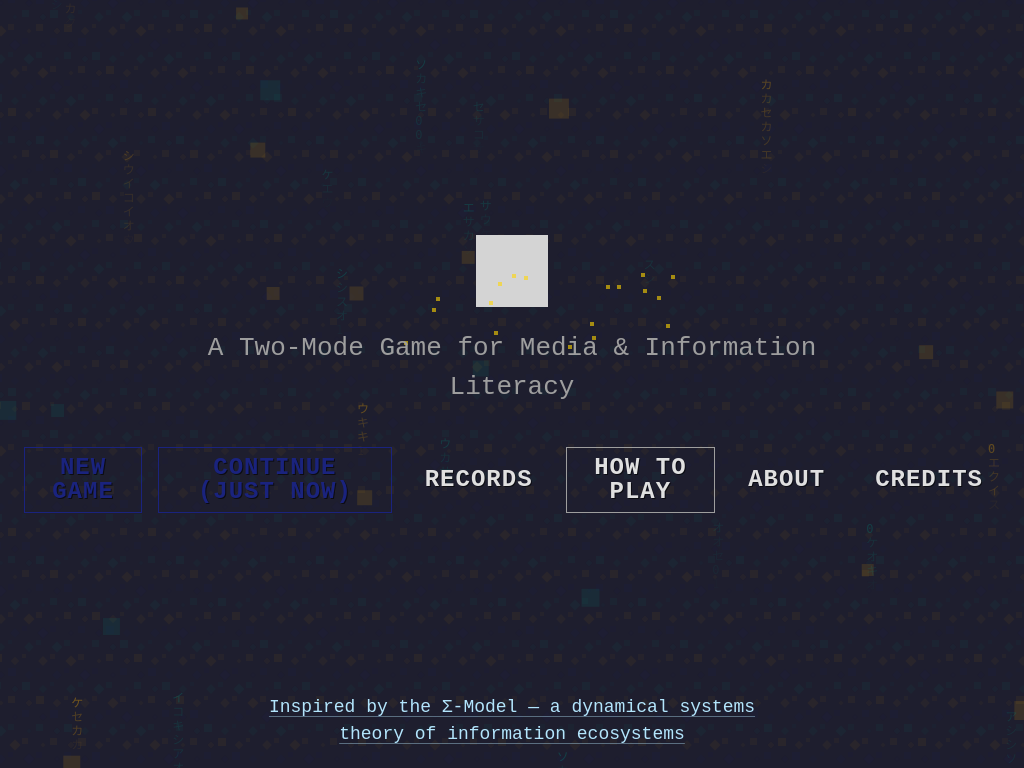
Test: TitleScreen › opens How to Play modal
Click the button "How to Play": (640, 480) x1=566 y1=447 x2=715 y2=513
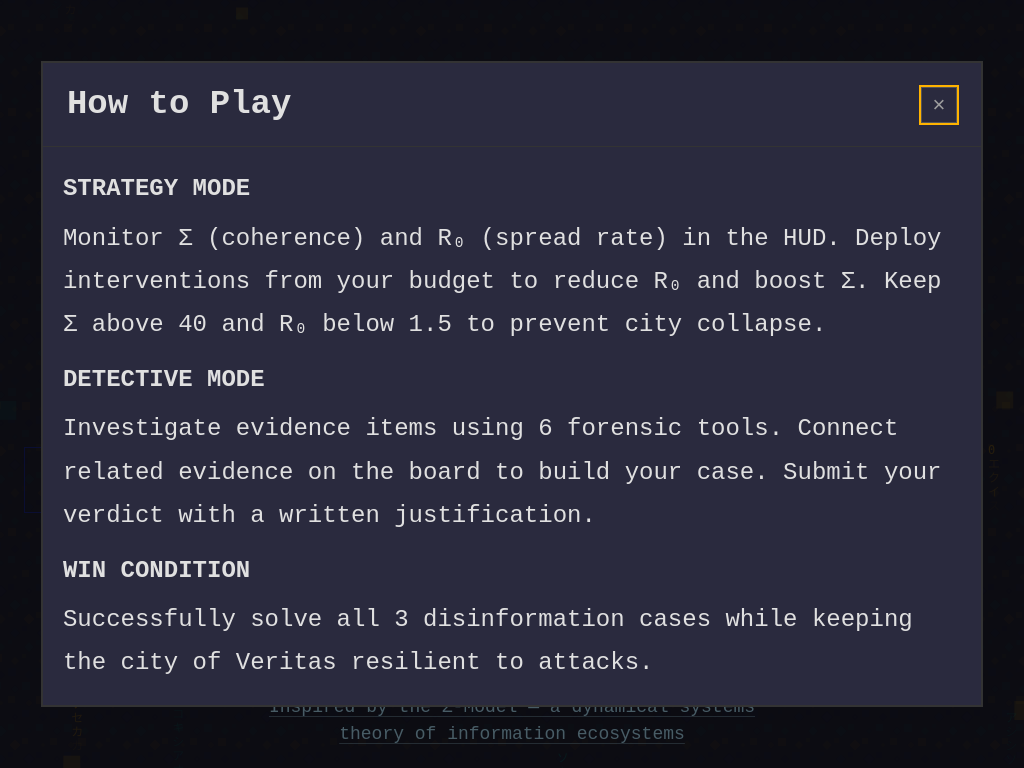
expect the text "STRATEGY MODE" is shown: met, box x1=63 y1=176 x2=250 y2=202
